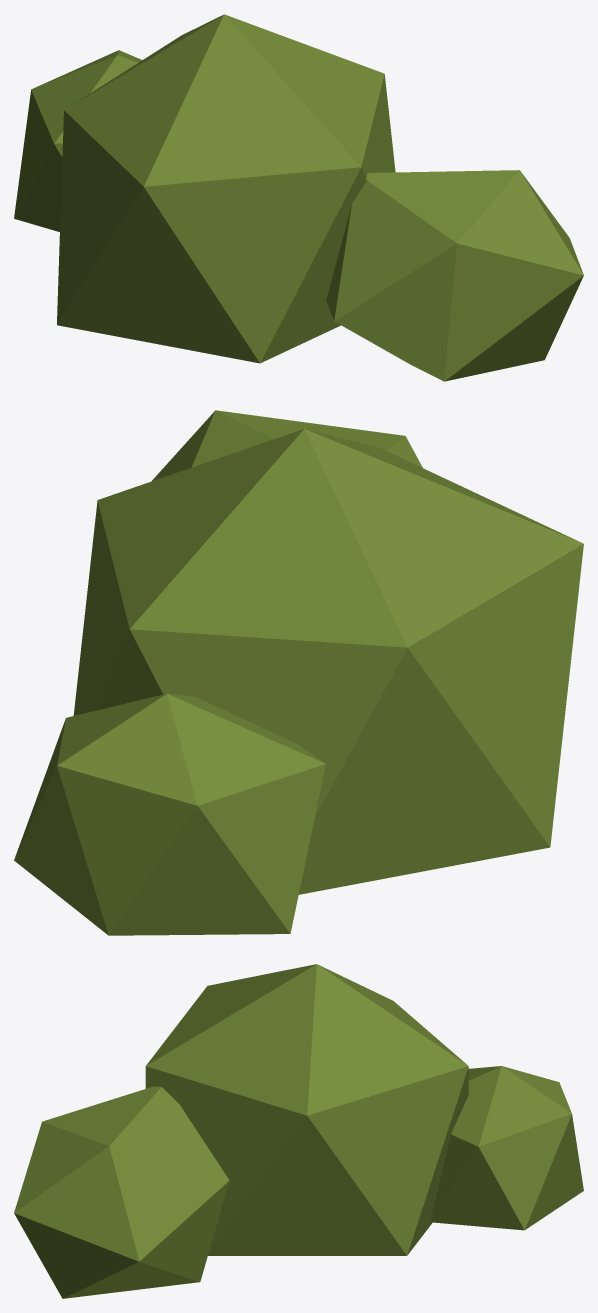
Rendered from Bush01.glb.
The picture shows the model from 3 angles, top to bottom: view 1: azimuth 30°, elevation 25°; view 2: azimuth 150°, elevation 25°; view 3: azimuth 270°, elevation 25°; orthographic projection. The views are drawn at different scales.
Visible parts, largest first — view 1: Bush01; view 2: Bush01; view 3: Bush01.
Boxes of the visible parts, bbox=[...] form: Bush01: bbox=[14, 14, 583, 381]; Bush01: bbox=[14, 410, 583, 935]; Bush01: bbox=[14, 964, 583, 1298].
Bounding box in the file's own units: 2.29 × 1.49 × 3.
